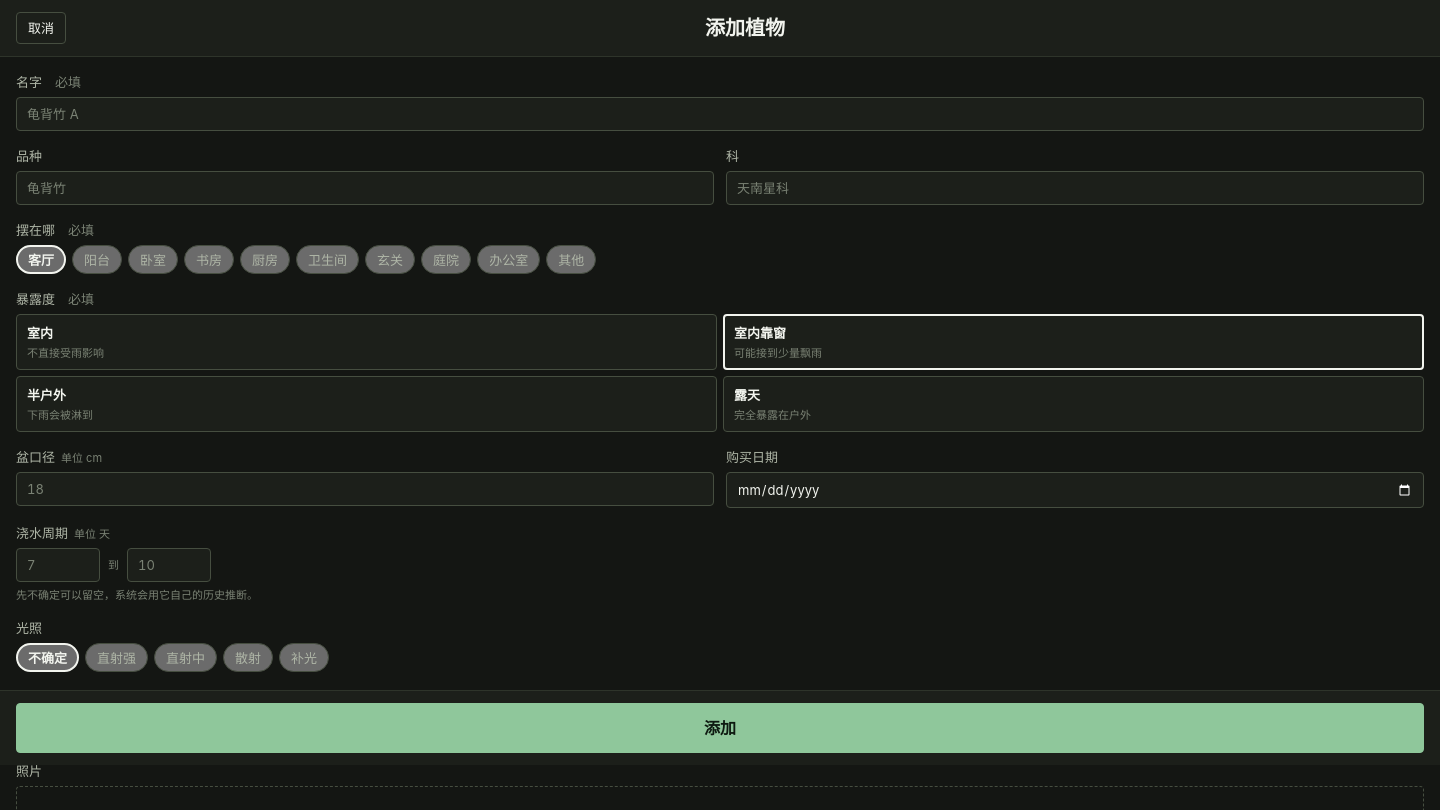
校验必须在提交前拦住 › 空名字不能提交
Click the button "添加" at (720, 728), box [16,703,1424,753]
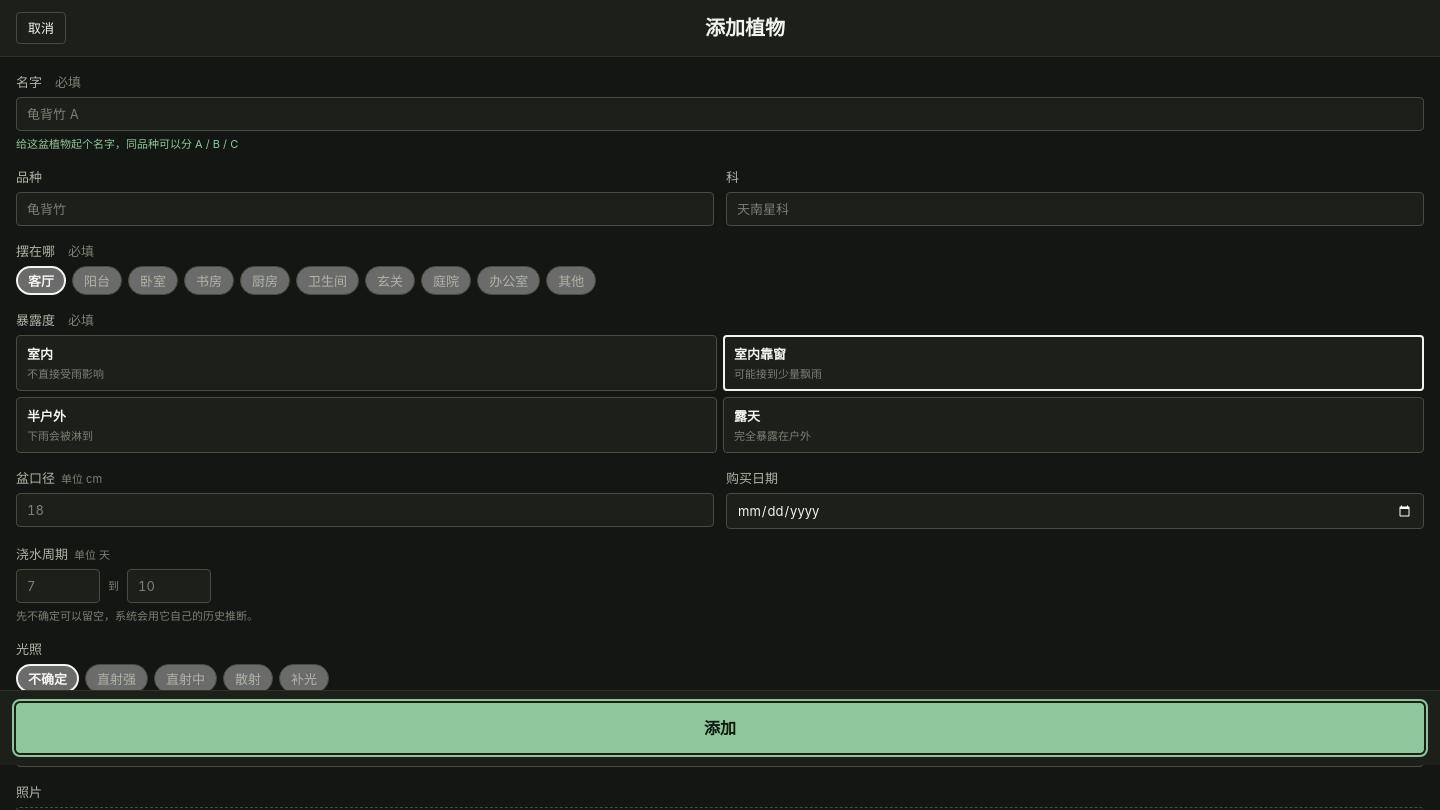
Result: the message "给这盆植物起个名字，同品种可以分 A / B / C" is shown at [16,137,238,151]
